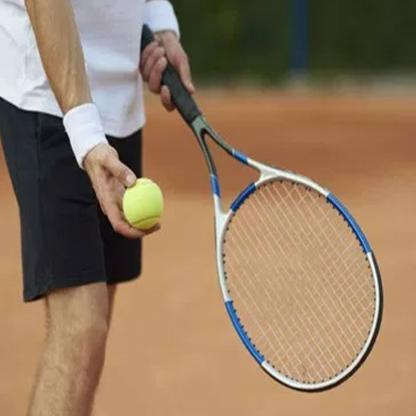tennis: (123, 13, 388, 403)
